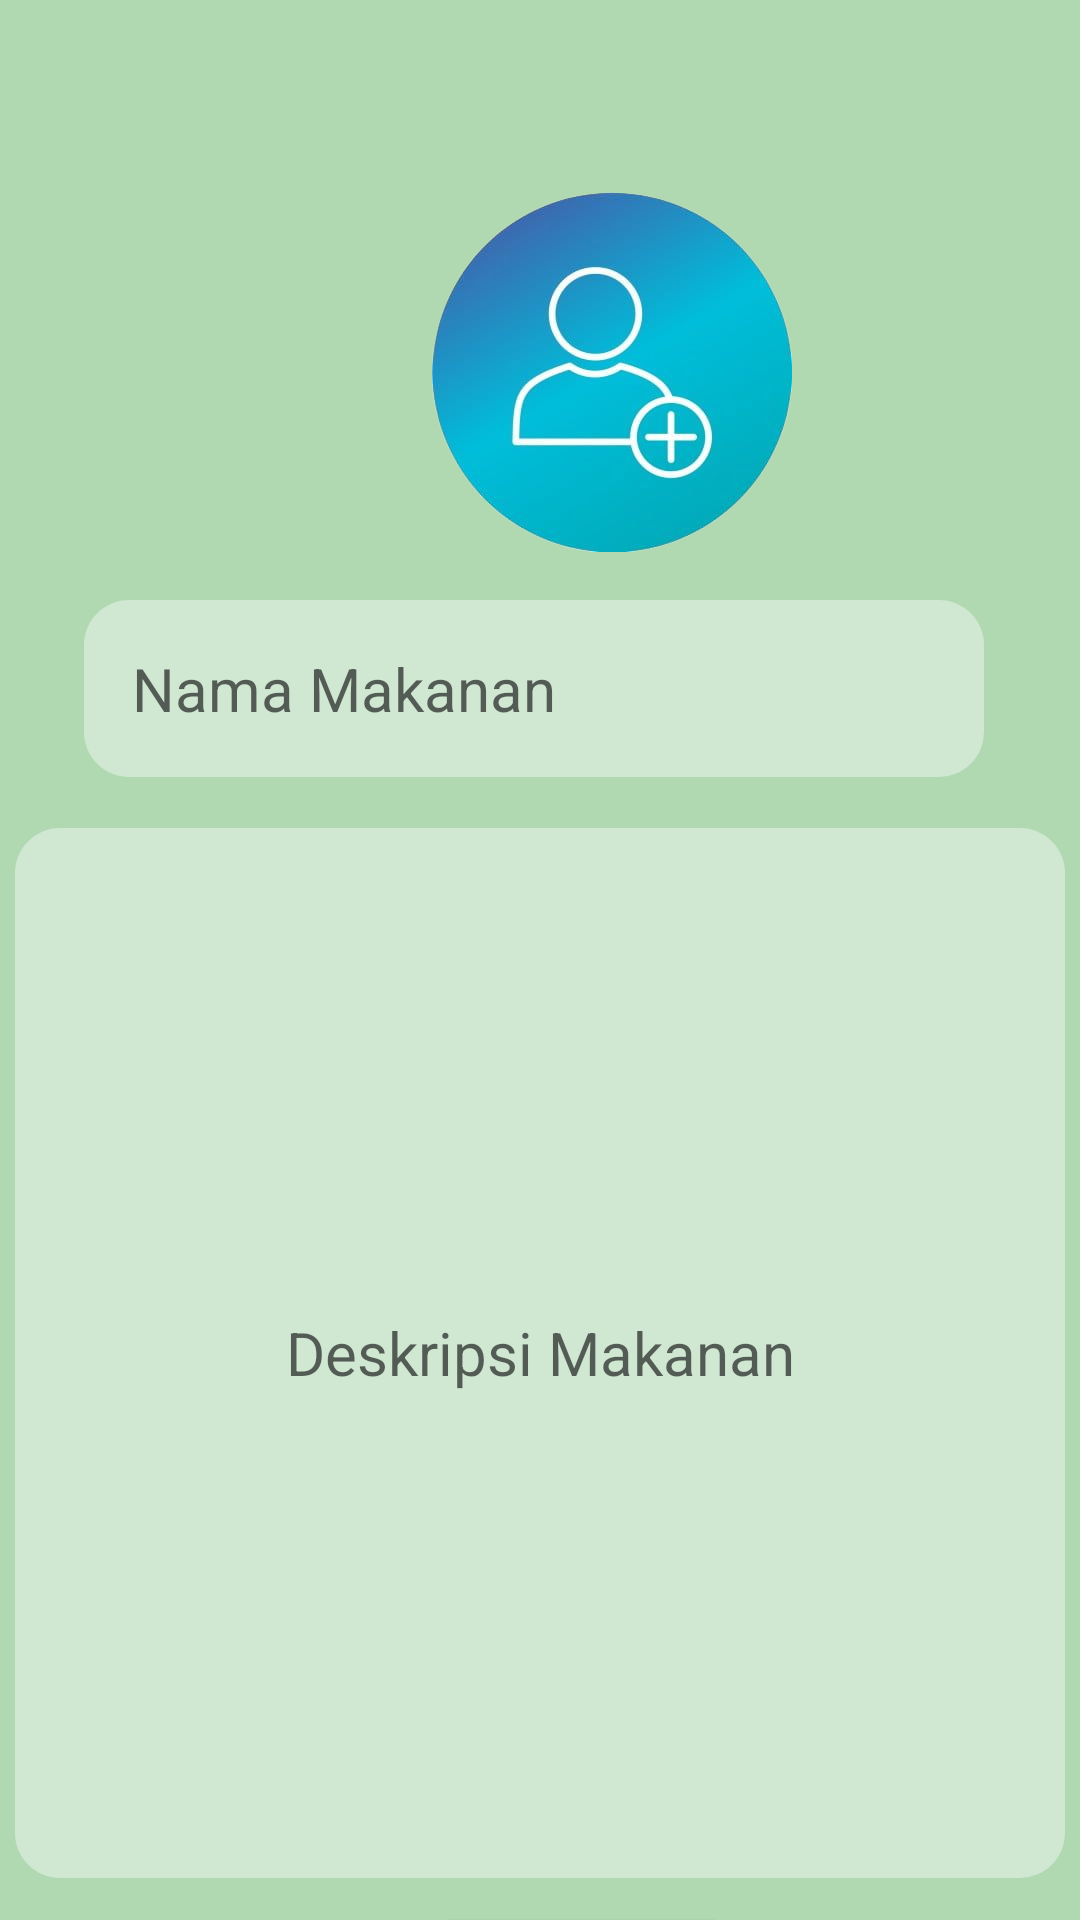

Screen size 1080 × 1920. Icon name, then its center in pixels as (x,y):
person: (612,372)
